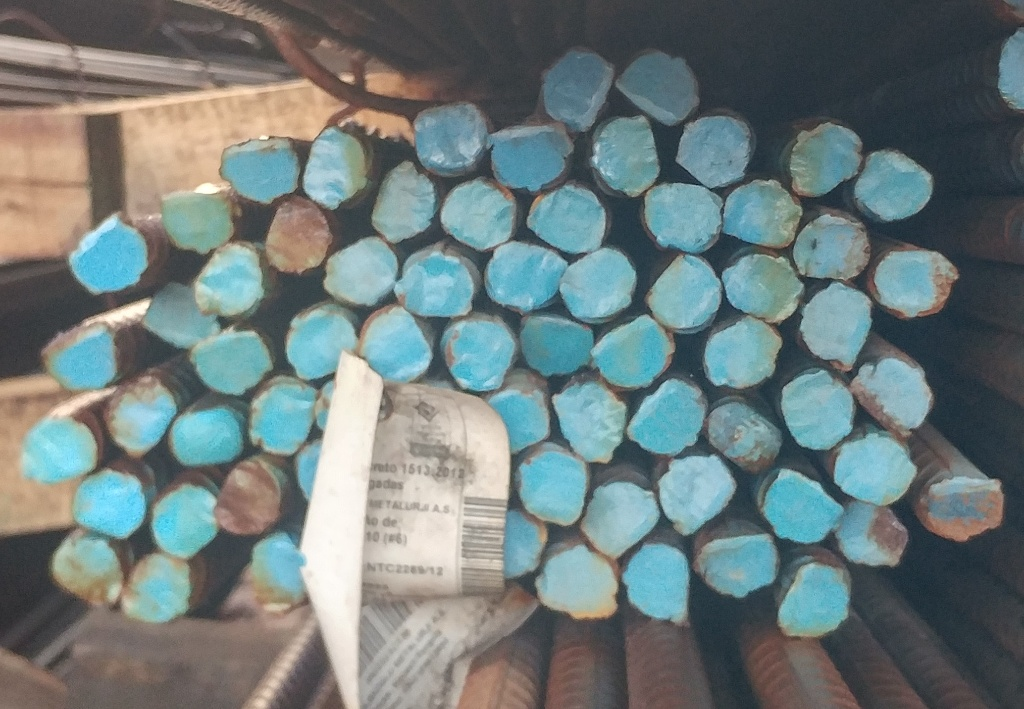dipstick: (797, 277, 885, 373), (531, 38, 622, 130), (614, 41, 704, 127), (62, 212, 154, 293), (548, 374, 630, 464), (145, 468, 223, 562), (391, 240, 484, 318), (353, 304, 446, 382), (626, 373, 710, 459), (45, 525, 124, 616), (622, 541, 703, 629), (848, 355, 937, 435), (844, 144, 940, 218), (188, 241, 275, 322), (702, 306, 785, 390), (778, 366, 858, 453), (35, 317, 130, 390), (100, 374, 182, 458), (870, 241, 959, 318), (754, 469, 846, 543), (655, 452, 736, 536), (770, 557, 855, 637), (18, 404, 103, 484), (475, 238, 568, 311), (403, 97, 492, 173), (642, 253, 725, 334), (719, 243, 803, 323), (486, 121, 576, 195), (674, 108, 757, 188), (700, 397, 788, 472), (186, 327, 280, 397), (786, 116, 867, 197), (580, 476, 660, 558), (586, 112, 662, 198), (438, 177, 524, 252), (691, 533, 783, 603), (829, 495, 913, 571), (917, 473, 1008, 543), (241, 531, 313, 619), (835, 430, 918, 506), (641, 181, 726, 253), (300, 125, 370, 212), (213, 134, 305, 200), (124, 544, 198, 626), (516, 447, 589, 530), (440, 314, 521, 388), (158, 184, 244, 253), (256, 196, 333, 272), (792, 214, 875, 284), (370, 156, 437, 241), (597, 314, 675, 387), (526, 182, 607, 252), (559, 249, 640, 319), (212, 459, 284, 537), (144, 280, 228, 346), (323, 235, 400, 306), (516, 309, 594, 379), (246, 375, 316, 452), (72, 469, 148, 538), (283, 297, 351, 374), (489, 373, 557, 449), (544, 549, 617, 618), (171, 399, 246, 464), (500, 508, 545, 579)
